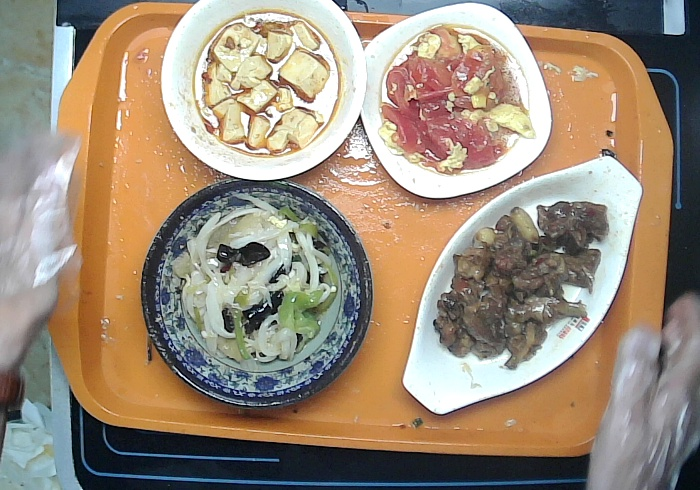ZNLD-Qing_Hua_Wan: (141, 178, 372, 413)
ZNLD-Si_Fang_Wan: (356, 3, 554, 199)
ZNLD-Tang_Wan: (160, 1, 366, 181)
ZNLD-Yu_Pan: (399, 153, 643, 420)
